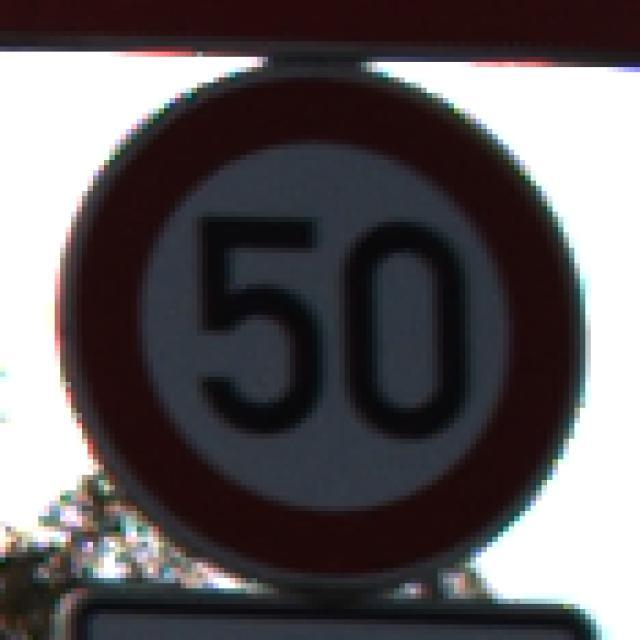speed limit 50: (64, 74, 585, 575)
